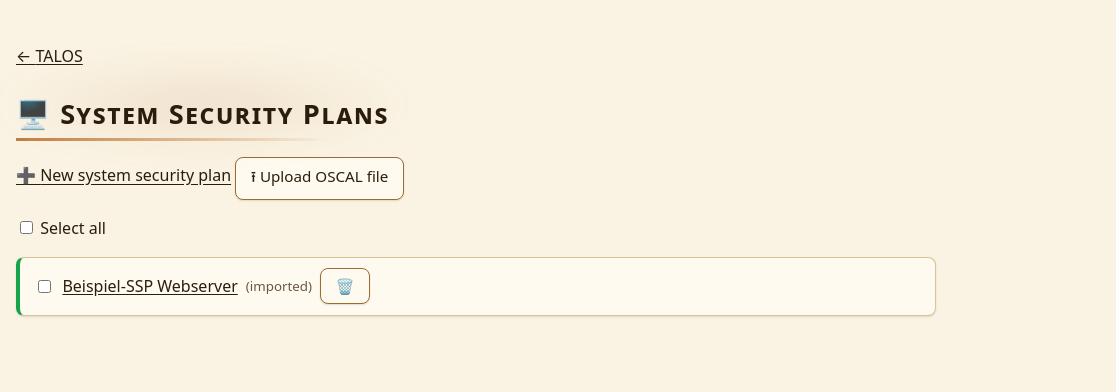
Test case: bulk selection (ADR-0027) › download-selected surfaces a skip warning for an item with no valid creator (ADR-0019)
Click the checkbox with test id "ssp-select-item" at (45, 286), box [38, 280, 51, 293]
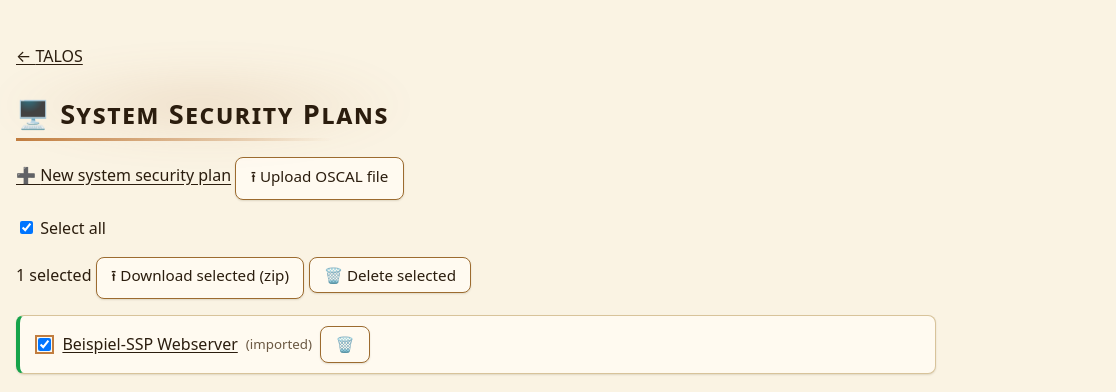
Click the button with test id "ssp-download-selected" at (200, 278), box [96, 256, 304, 299]
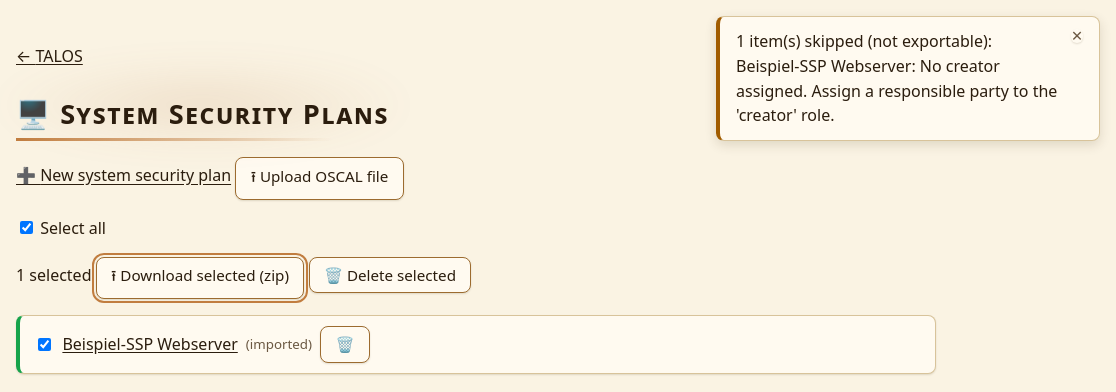
expect the message with test id "toast" shows "1": met, box [736, 30, 1057, 126]
expect the message with test id "toast" shows "Beispiel-SSP Webserver": met, box [736, 30, 1057, 126]
